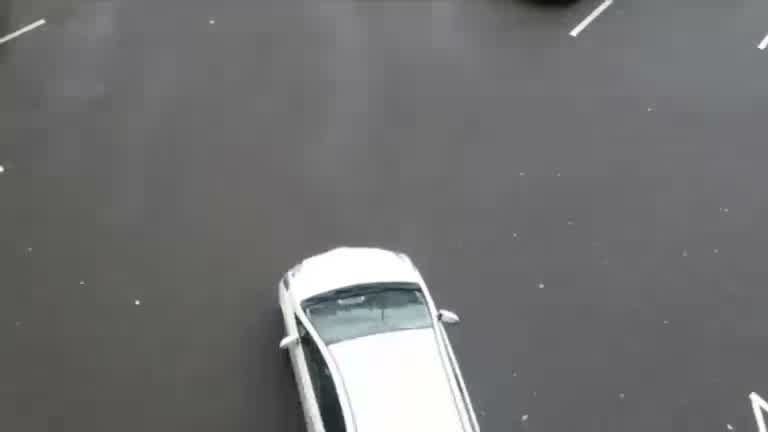car: (255, 230, 534, 432)
